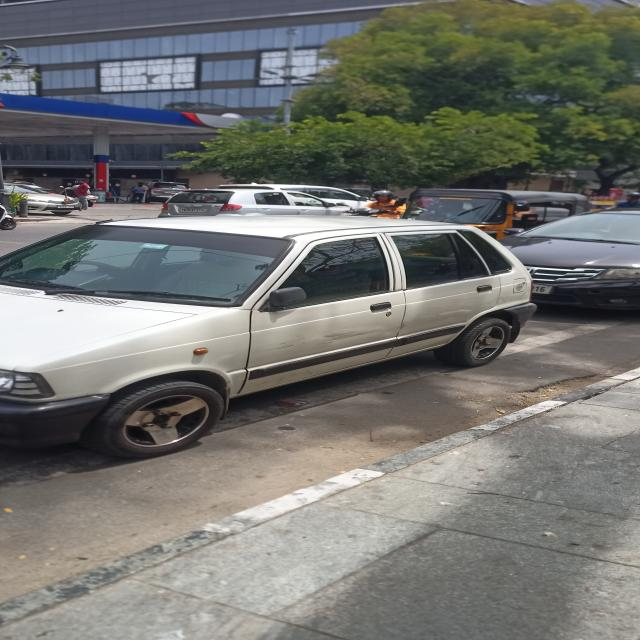scratch: (262, 323, 378, 354), (416, 309, 474, 322), (376, 322, 408, 331)
